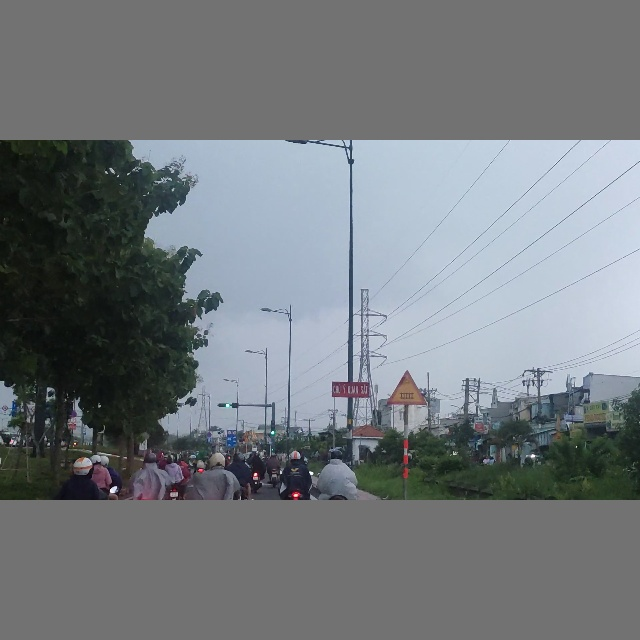I.407a: (207, 437, 212, 443)
W.210: (387, 370, 427, 407)
